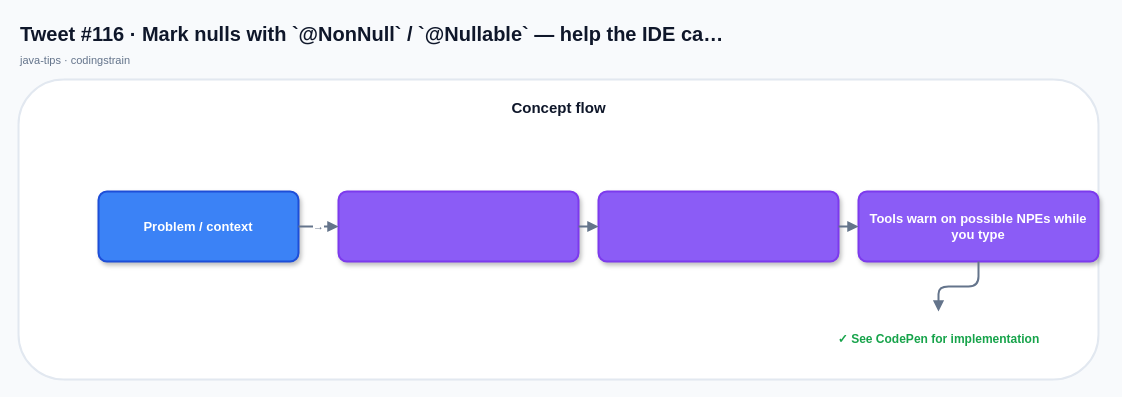
This 1122x397 diagram has some shape labels left out. Here are the shapes that lost their labels. From the top down, the centre of each, then its label:
At (459,227): "💡 Mark nulls with `@NonNull` / `@Nullable` — help the IDE catch bugs.".
At (719,227): "Documents what may be null (no runtime change)".
